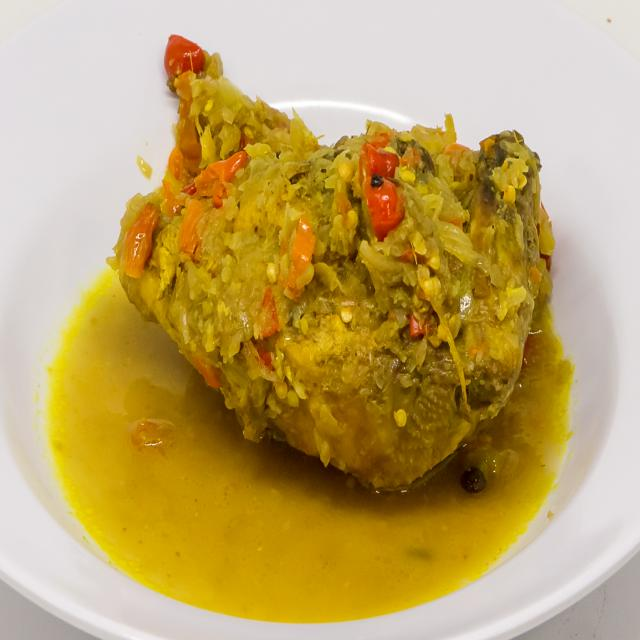Ayam-Betutu: (105, 19, 553, 507)
